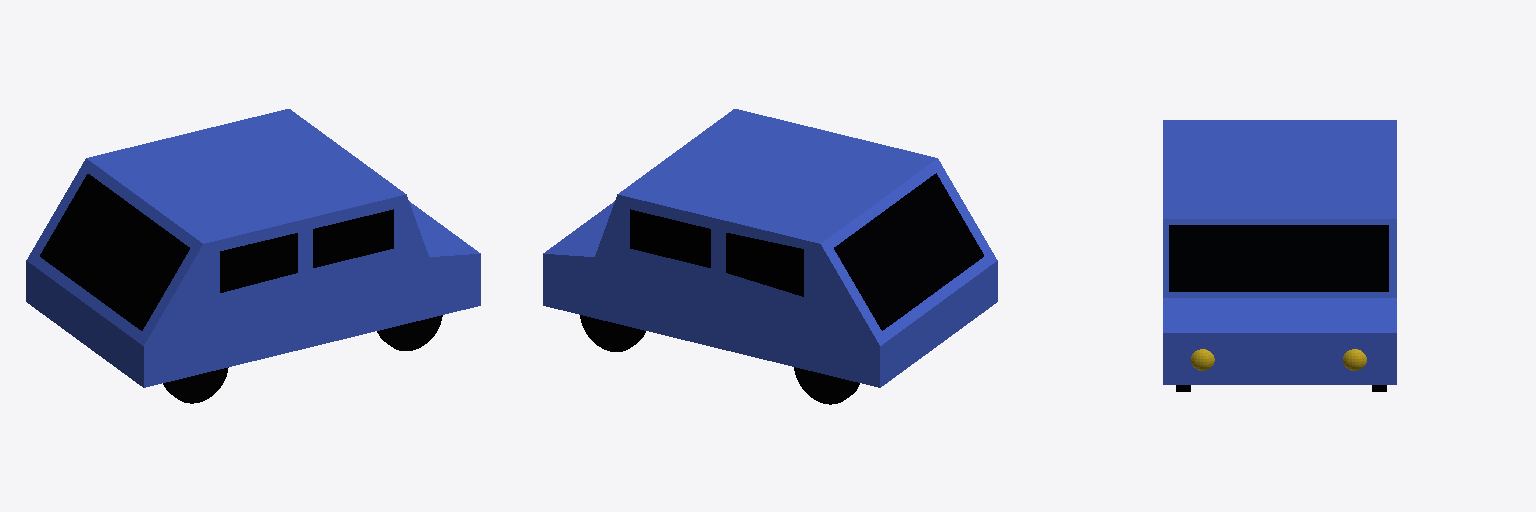
File: car.obj
3 views of the same model, side by side, from view 1: azimuth 30°, elevation 25°; view 2: azimuth 150°, elevation 25°; view 3: azimuth 270°, elevation 25° (orthographic).
Parts seen in each view (by area): view 1: Circle.003; view 2: Circle.003; view 3: Circle.003.
Part boxes in pixels (left/top/right/bottom): Circle.003: left=26, top=109, right=480, bottom=403; Circle.003: left=543, top=109, right=997, bottom=404; Circle.003: left=1163, top=120, right=1396, bottom=391.
Bounding box in the file's own units: 3.37 × 1.54 × 2.